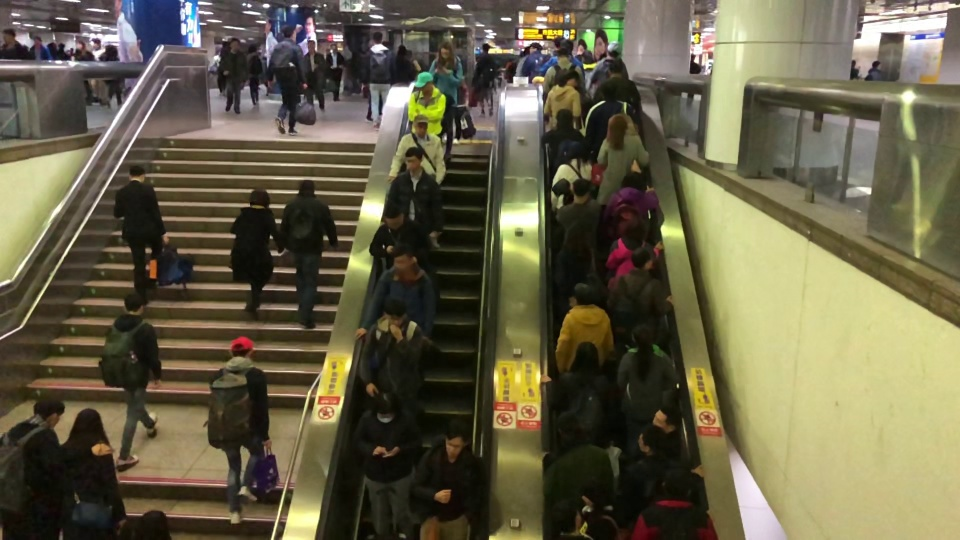person_head: (548, 497, 583, 535), (69, 408, 104, 445), (445, 417, 471, 461), (569, 340, 600, 375), (33, 399, 65, 431), (662, 467, 691, 501), (581, 476, 607, 512), (637, 424, 667, 455), (555, 410, 584, 441), (605, 115, 629, 151), (374, 390, 399, 423), (622, 215, 649, 245), (383, 296, 408, 327), (652, 407, 680, 434), (568, 281, 594, 308), (562, 222, 587, 248), (569, 178, 593, 205), (382, 203, 405, 231), (630, 245, 655, 270), (228, 336, 254, 359), (631, 322, 655, 346), (392, 244, 413, 271), (620, 171, 647, 192), (404, 146, 424, 174), (414, 71, 434, 96), (600, 78, 620, 103), (124, 293, 144, 316), (558, 69, 581, 89), (555, 108, 573, 133), (563, 139, 584, 160), (249, 189, 271, 207), (412, 115, 430, 137), (605, 41, 623, 59), (437, 39, 453, 59), (298, 179, 316, 196), (128, 164, 145, 182), (607, 61, 623, 79), (2, 28, 16, 44), (560, 38, 574, 54), (281, 23, 294, 40), (228, 37, 241, 51), (581, 51, 595, 64), (529, 42, 543, 54), (554, 36, 566, 49), (373, 30, 383, 45), (397, 44, 407, 58), (306, 39, 316, 52), (108, 46, 118, 57), (481, 42, 490, 54), (93, 38, 102, 49), (248, 44, 257, 54), (34, 35, 42, 46), (872, 60, 881, 69), (330, 43, 338, 53), (689, 51, 696, 62), (850, 58, 857, 69)
person_vbox: (202, 333, 272, 525), (97, 292, 162, 471), (354, 391, 423, 540), (409, 419, 489, 540), (0, 397, 66, 540), (61, 408, 128, 540), (281, 179, 339, 329), (539, 339, 617, 447), (615, 323, 682, 446), (540, 408, 614, 517), (113, 164, 169, 306), (388, 114, 446, 250), (354, 244, 435, 341), (619, 425, 705, 515), (359, 297, 426, 406), (606, 246, 674, 349), (227, 189, 281, 314), (629, 468, 720, 540), (555, 281, 614, 375), (389, 146, 443, 239), (596, 115, 650, 206), (368, 203, 431, 279), (601, 171, 664, 246), (583, 80, 637, 163), (267, 25, 307, 135), (428, 40, 463, 163), (553, 177, 601, 260), (603, 216, 664, 281), (551, 223, 601, 300), (550, 139, 593, 221), (542, 108, 586, 187), (366, 30, 396, 131), (579, 476, 624, 540), (407, 71, 446, 143), (585, 43, 629, 103), (592, 62, 641, 111), (544, 71, 581, 129), (220, 37, 247, 114), (540, 39, 585, 83), (471, 43, 496, 118), (303, 39, 326, 112), (0, 28, 35, 62), (246, 43, 264, 107), (325, 43, 344, 102), (91, 37, 107, 106), (105, 45, 123, 104), (521, 42, 551, 76), (393, 44, 418, 83), (686, 50, 702, 110), (27, 34, 53, 60), (864, 59, 884, 81), (849, 57, 860, 79)
